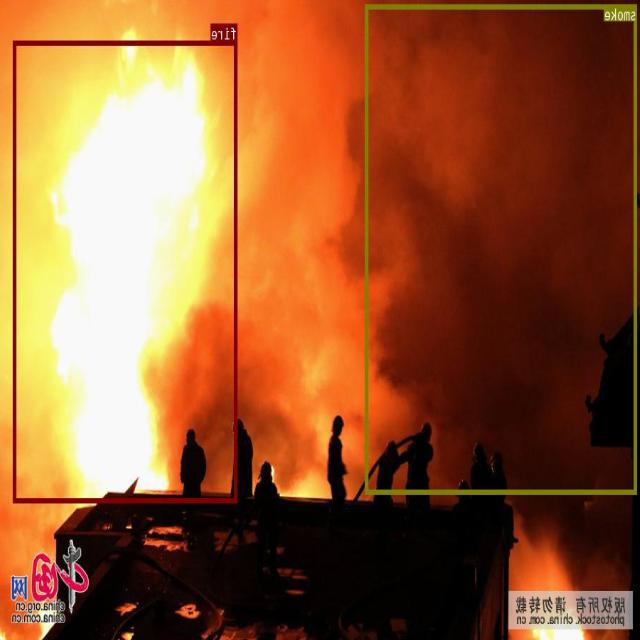fire: (13, 40, 238, 502)
smoke: (366, 4, 638, 494)
